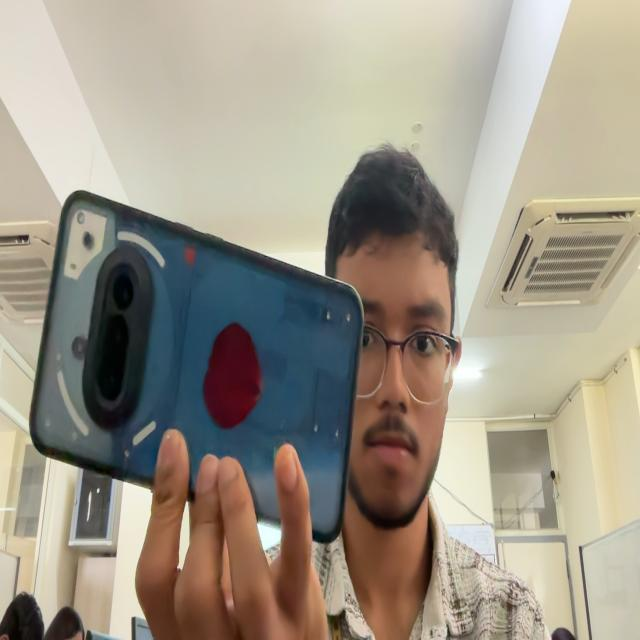Useful: (29, 191, 363, 542)
